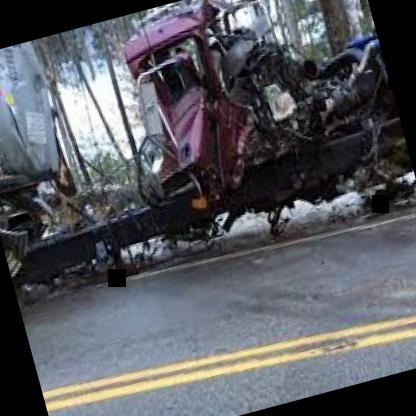accident: (0, 0, 416, 308)
